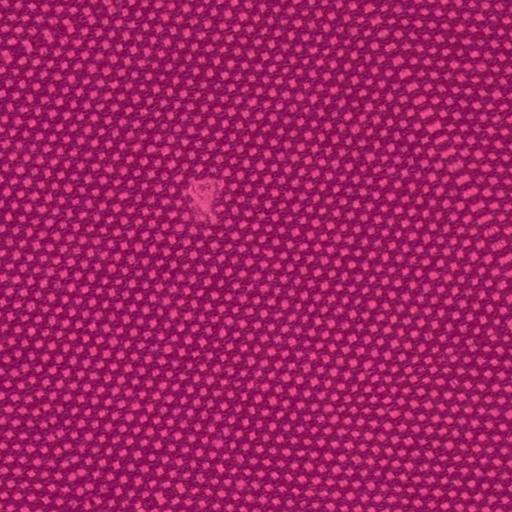knot: (177, 167, 236, 231)
